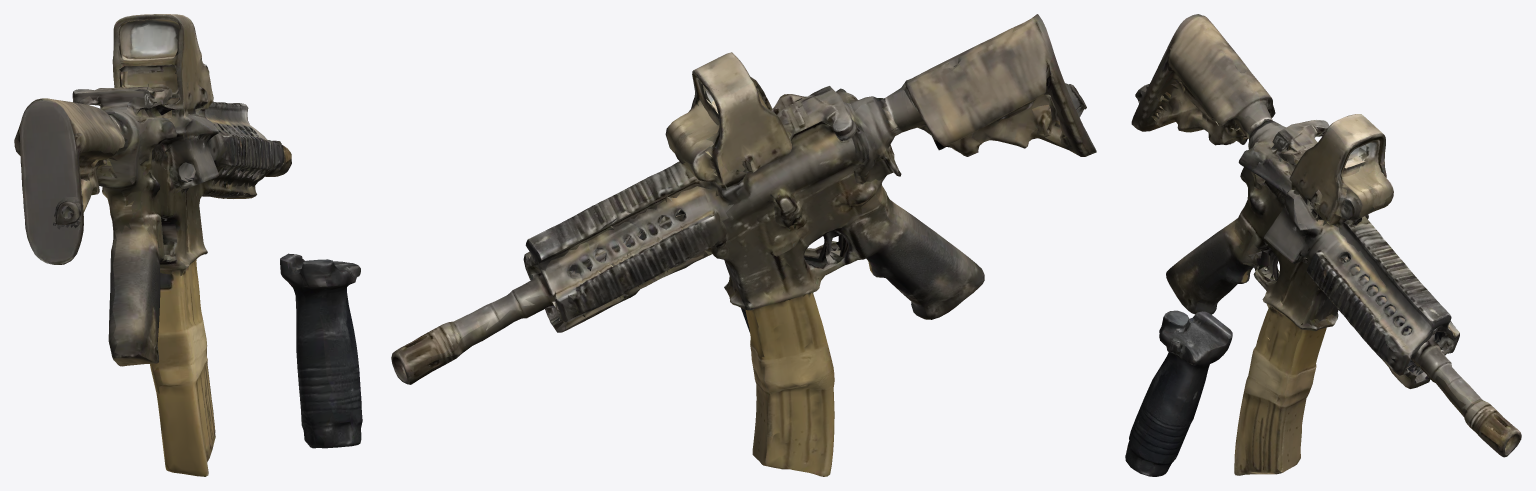
File: assault_rifle_titan40k.glb
3 views of the same model, side by side, from view 1: azimuth 30°, elevation 25°; view 2: azimuth 150°, elevation 25°; view 3: azimuth 270°, elevation 25° (orthographic). The views are drawn at different scales.
Parts seen in each view (by area): view 1: LowPoly; view 2: LowPoly; view 3: LowPoly.
Part boxes in pixels (bbox=[...]): LowPoly: bbox=[14, 14, 362, 476]; LowPoly: bbox=[391, 14, 1096, 476]; LowPoly: bbox=[1125, 14, 1521, 476].
Size of the model in its own units: 0.8513 by 0.7813 by 0.7354.
Materials: 1 (1 with a texture image).
